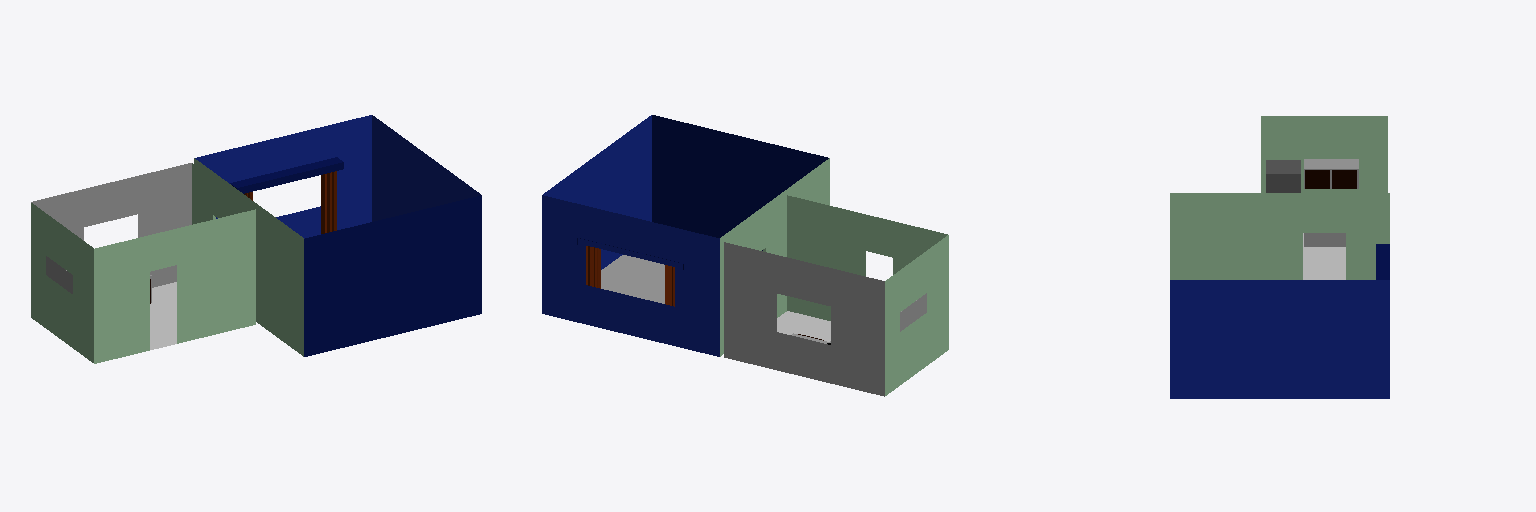
File: home001.obj
The picture shows the model from 3 angles: view 1: azimuth 30°, elevation 25°; view 2: azimuth 150°, elevation 25°; view 3: azimuth 270°, elevation 25°; orthographic projection.
Visible parts, largest first — view 1: Cube; view 2: Cube; view 3: Cube.
Boxes of the visible parts, box(x1,y1,x2,y2) form: Cube: box(31, 115, 481, 363); Cube: box(542, 115, 948, 396); Cube: box(1170, 116, 1389, 398).
Bounding box in the file's own units: 26.96 × 8.94 × 15.02.